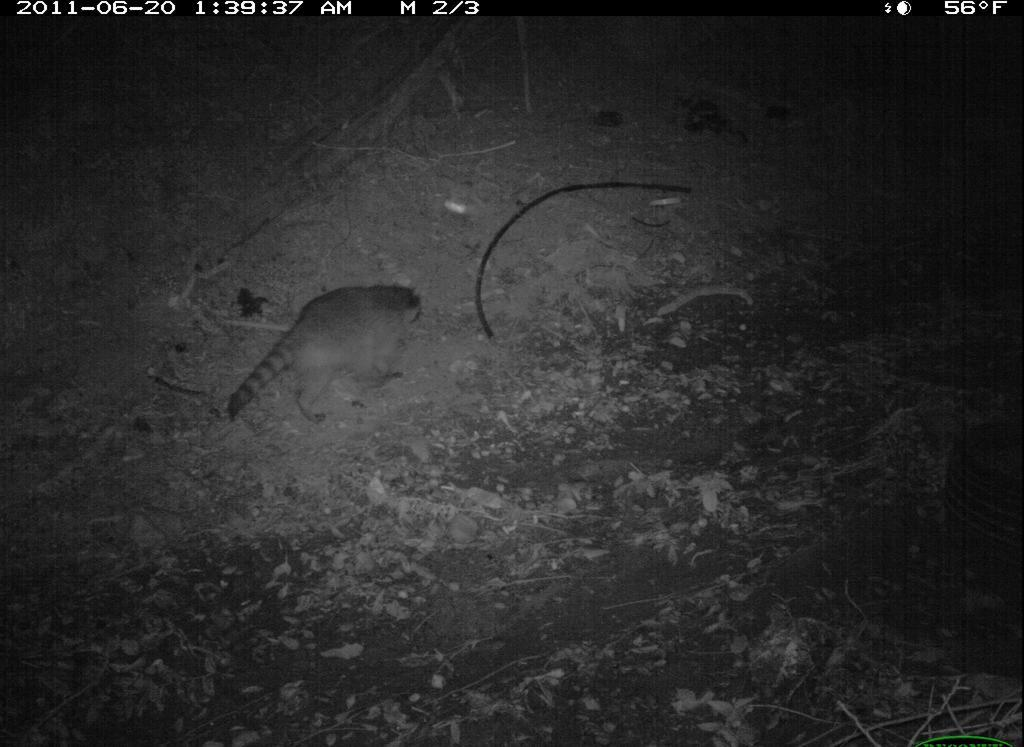raccoon: (225, 277, 427, 441)
